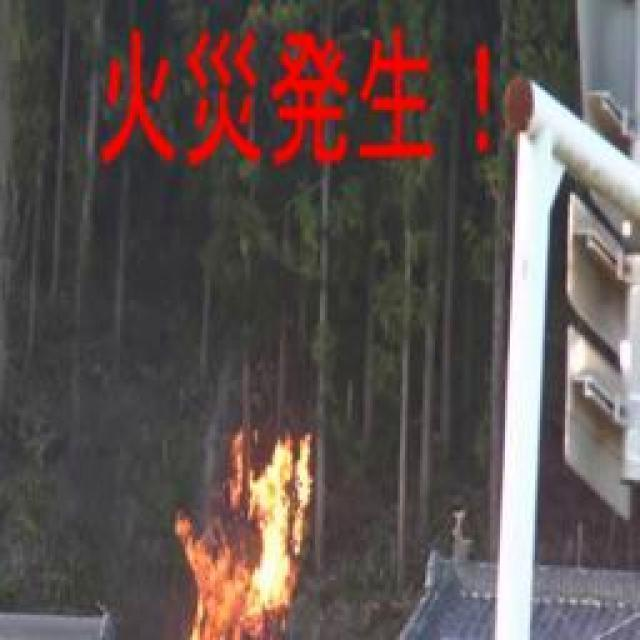Fire: (170, 432, 328, 640)
